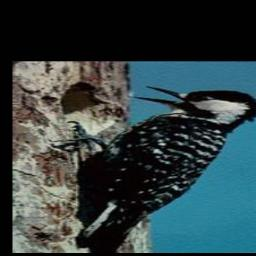Woodpecker: (49, 82, 256, 252)
